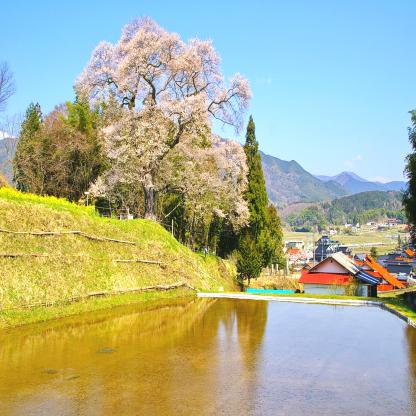EdohiganSakura: (72, 13, 253, 253)
